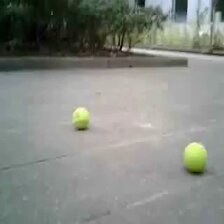tennis: (182, 143, 206, 172), (72, 108, 90, 130)
